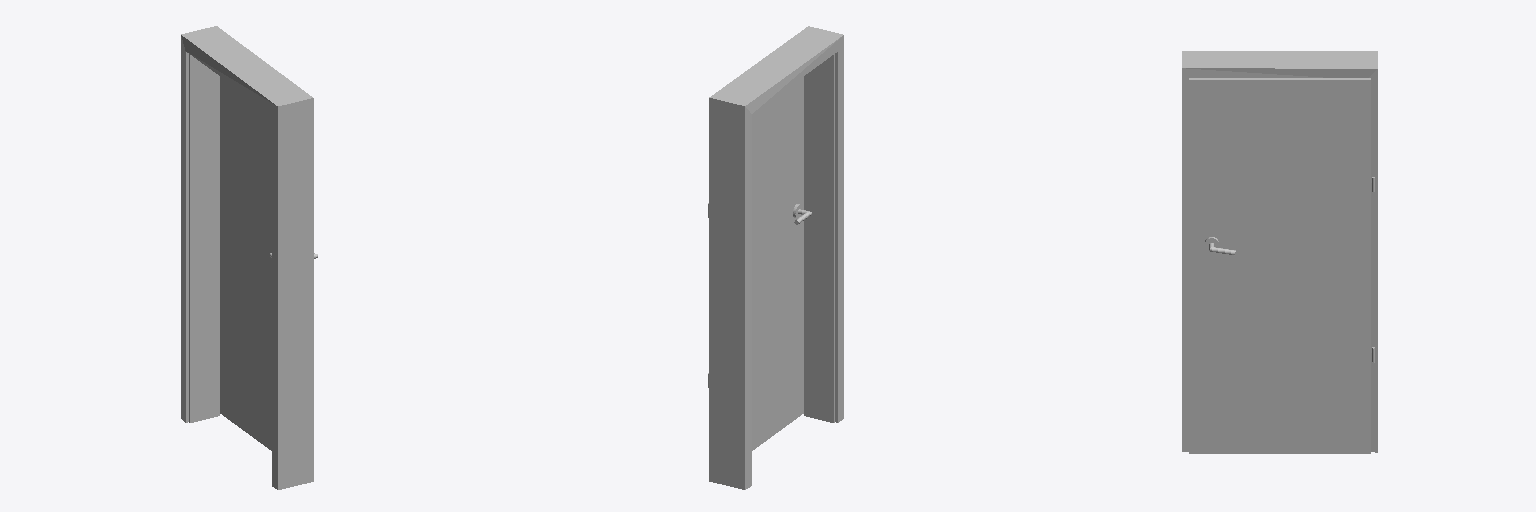
File: door95.obj
3 renders of one model, left to right at view 1: azimuth 30°, elevation 25°; view 2: azimuth 150°, elevation 25°; view 3: azimuth 270°, elevation 25°, orthographic.
Parts seen in each view (by area): view 1: Cylinder.005, Cylinder.001; view 2: Cylinder.005, Cylinder.001; view 3: Cylinder.001, Cylinder.005.
Part boxes in pixels (x1,y1,x2,y2): Cylinder.005: (181,26,313,489); Cylinder.001: (220,77,271,450); Cylinder.005: (708,26,843,489); Cylinder.001: (708,77,803,450); Cylinder.001: (1189,78,1374,453); Cylinder.005: (1182,51,1377,452).
Bounding box in the file's own units: 0.3039 × 2.05 × 0.95.